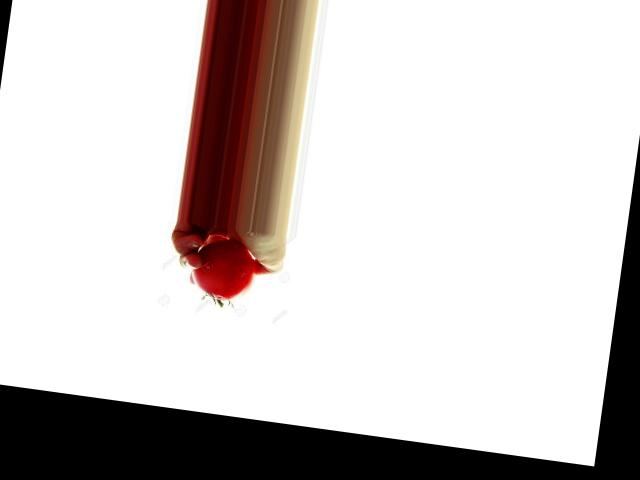tomato: (187, 235, 258, 304)
